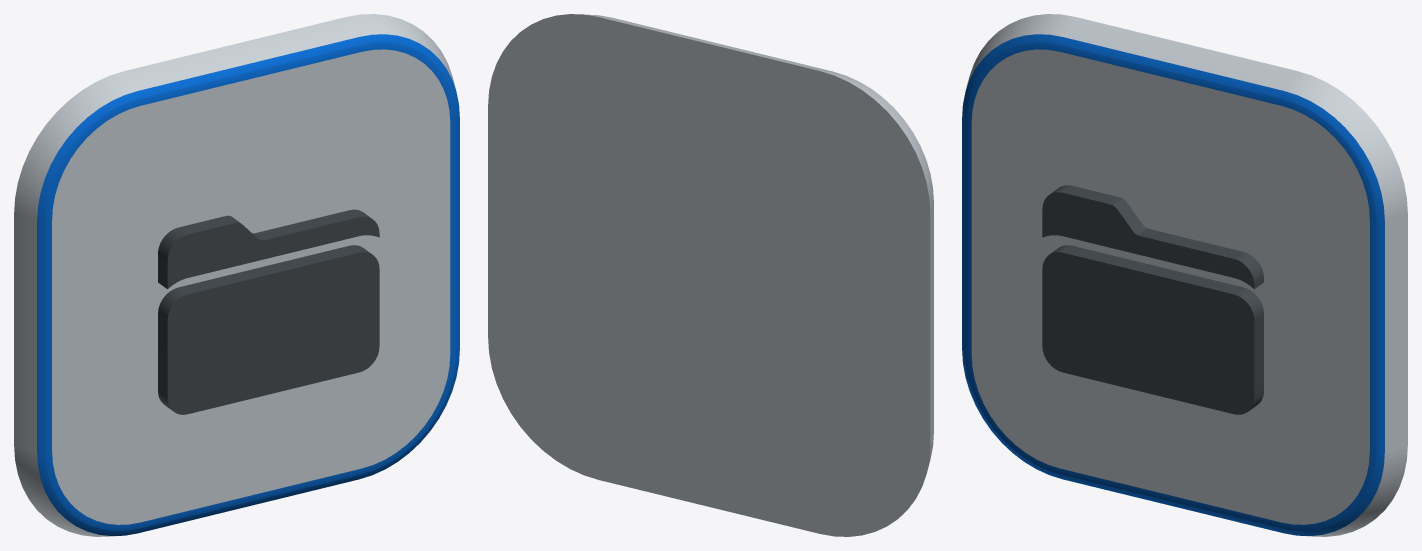
Rendered from app-icon-family-d686c7.glb.
The picture shows the model from 3 angles, left to right: view 1: azimuth 30°, elevation 25°; view 2: azimuth 150°, elevation 25°; view 3: azimuth 330°, elevation 25°; orthographic projection.
Parts seen in each view (by area): view 1: icon; view 2: icon; view 3: icon.
Boxes of the visible parts, x1=… form: icon: x1=14, y1=14, x2=459, y2=536; icon: x1=488, y1=14, x2=933, y2=536; icon: x1=962, y1=14, x2=1407, y2=536.
Bounding box in the file's own units: 0.08 × 0.08 × 0.012.
